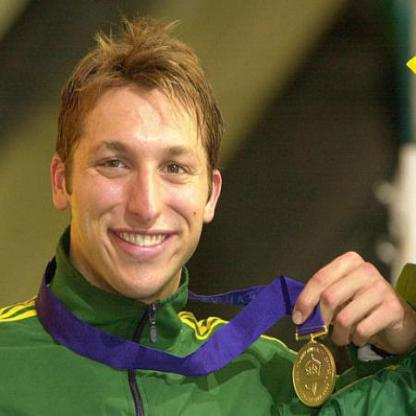face: (70, 55, 212, 300)
